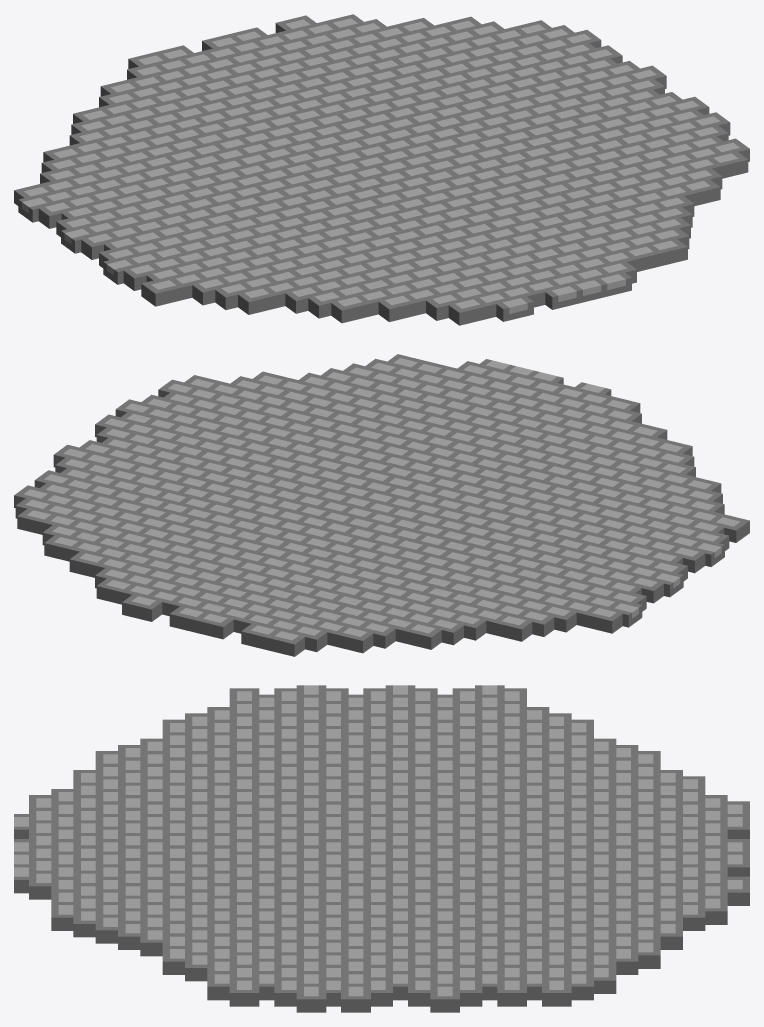
File: floor2.obj
The picture shows the model from 3 angles, top to bottom: view 1: azimuth 30°, elevation 25°; view 2: azimuth 150°, elevation 25°; view 3: azimuth 270°, elevation 25°; orthographic projection. The views are drawn at different scales.
Bounding box in the file's own units: 10 × 0.2 × 9.9.
1 material, 1 textured.
